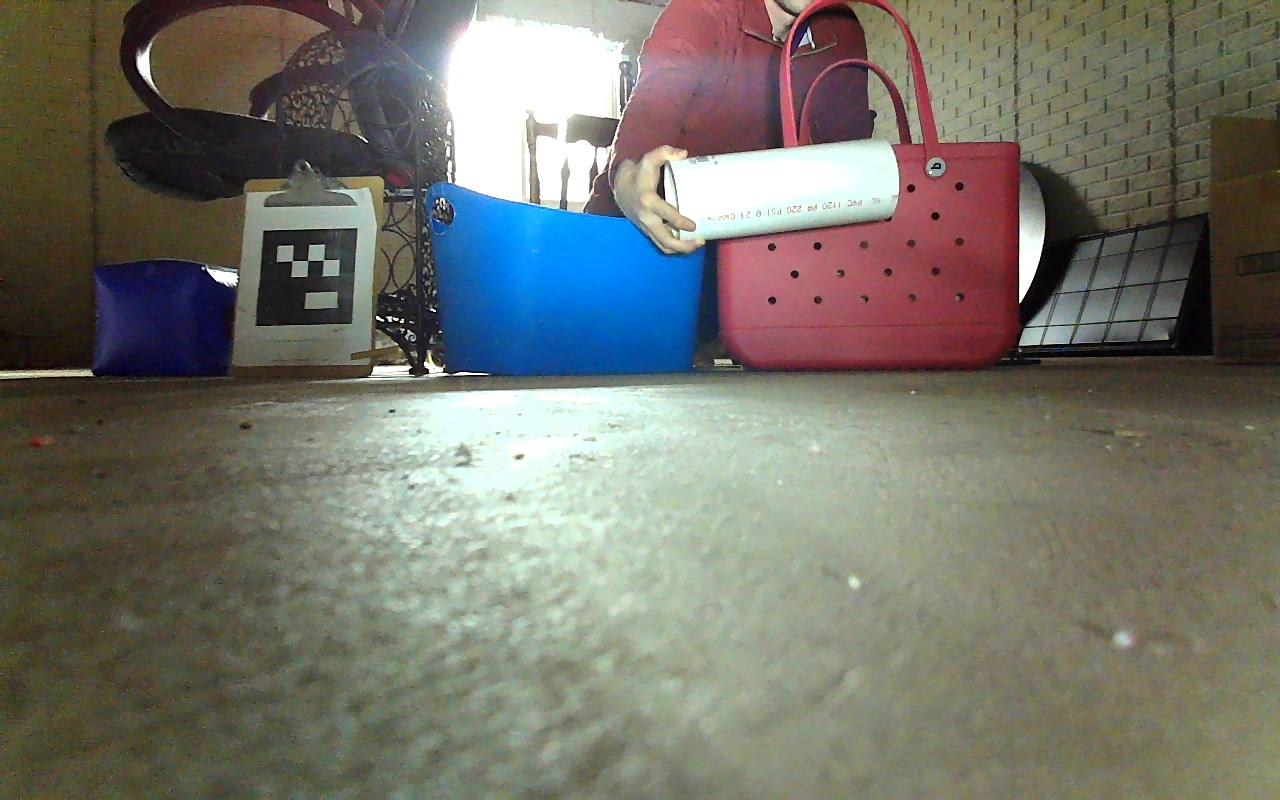coral: (662, 137, 899, 242)
